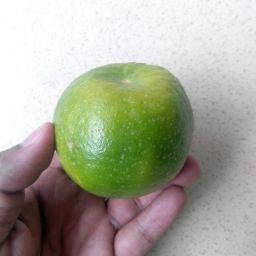Unripe: (52, 61, 193, 197)
